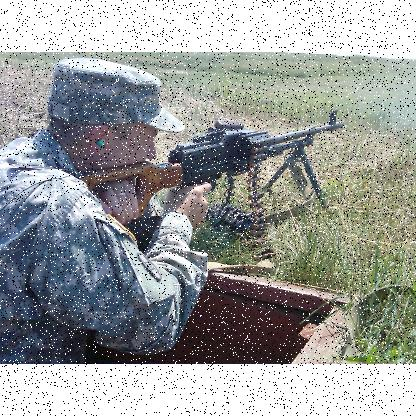gun: (78, 120, 342, 206)
